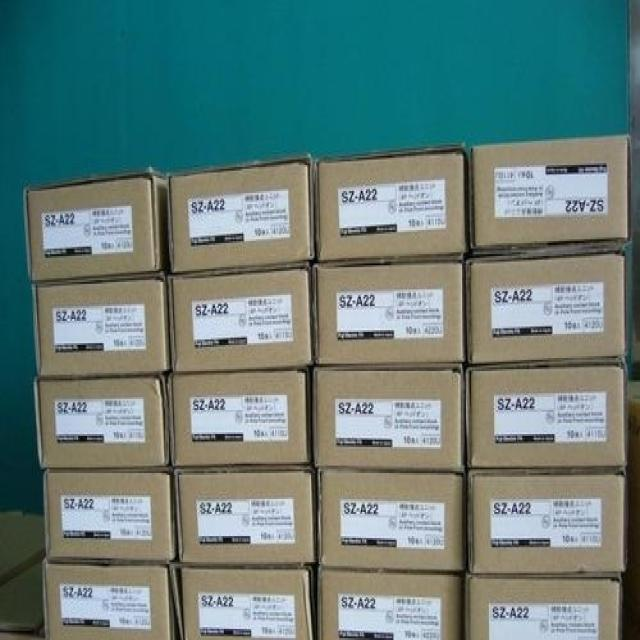box: (469, 135, 630, 259), (466, 242, 626, 364), (310, 145, 469, 261), (466, 361, 627, 473), (466, 467, 630, 574), (168, 156, 314, 274), (313, 257, 469, 365), (314, 363, 466, 472), (315, 467, 468, 574), (170, 261, 315, 373), (25, 172, 173, 280), (168, 365, 314, 468), (169, 466, 319, 564), (32, 272, 171, 376), (42, 466, 176, 564), (35, 374, 169, 468), (169, 564, 319, 638), (318, 564, 468, 638), (43, 555, 175, 636), (467, 574, 623, 638)
